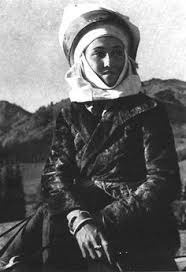person without safety: (51, 31, 157, 268)
